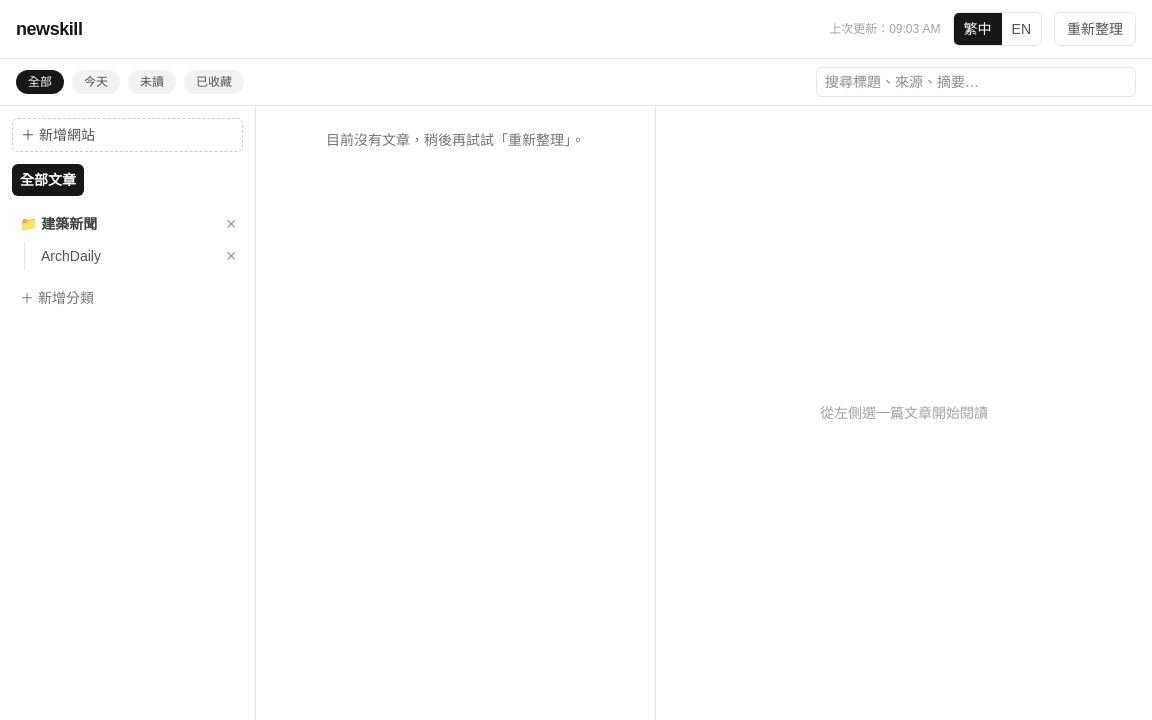
NewsApp — add/delete are always usable once logged in (no separate admin gate) › clicking Add Website opens the unified add-source flow directly — no login prompt of any kind
Click the button "＋ 新增網站" at (128, 135), box [12,118,243,152]
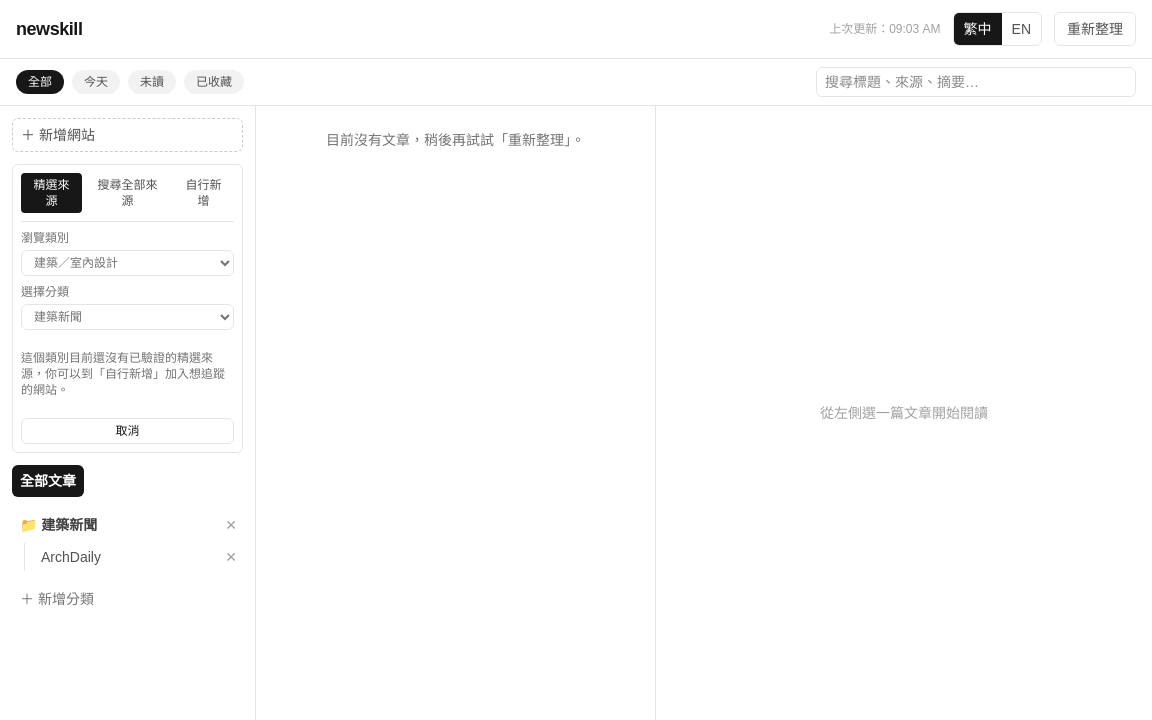
Expected: the button "精選來源" is shown, [21,173,82,213]
Expected: the button "搜尋全部來源" is shown, [86,173,169,213]
Expected: the button "自行新增" is shown, [173,173,234,213]
